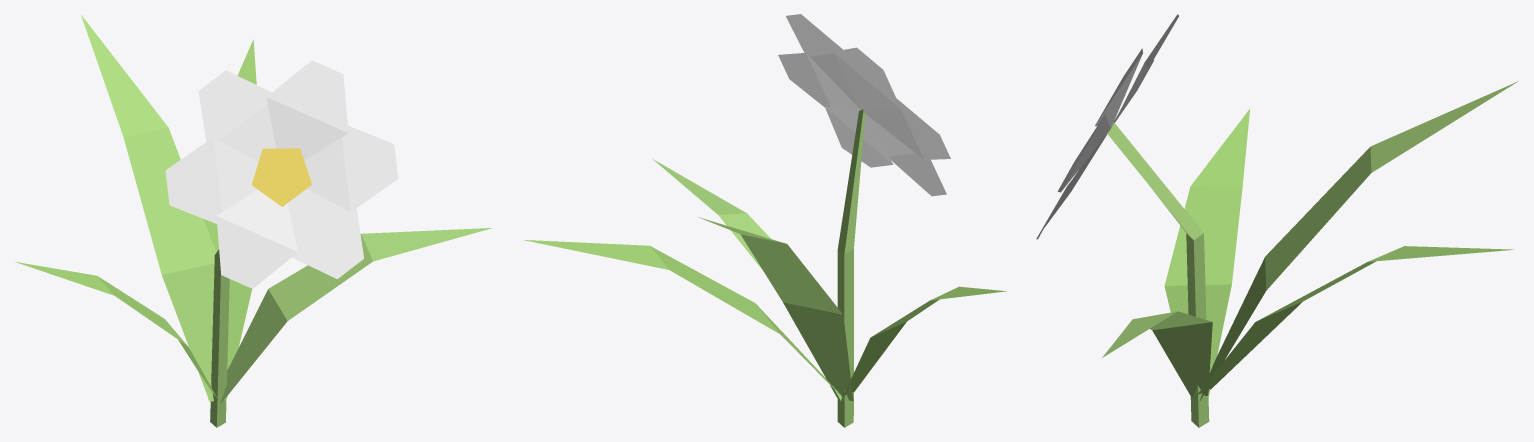
The model's file is Flower_e_OneS_10.fbx.
3 renders of one model, left to right at view 1: azimuth 30°, elevation 25°; view 2: azimuth 150°, elevation 25°; view 3: azimuth 270°, elevation 25°, orthographic. The views are drawn at different scales.
Visible parts, largest first — view 1: Flower_e_OneS_10; view 2: Flower_e_OneS_10; view 3: Flower_e_OneS_10.
Boxes of the visible parts, x1=… form: Flower_e_OneS_10: x1=14, y1=15, x2=492, y2=427; Flower_e_OneS_10: x1=524, y1=14, x2=1006, y2=427; Flower_e_OneS_10: x1=1036, y1=14, x2=1518, y2=427.
Bounding box in the file's own units: 0.4188 × 0.3533 × 0.3745.
